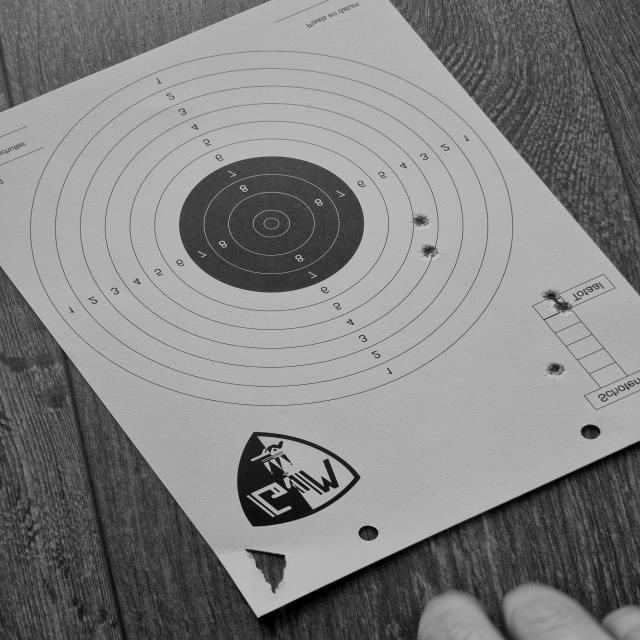0: (545, 362, 566, 378), (540, 289, 562, 303), (553, 300, 572, 313)
4: (417, 244, 442, 258)
5: (409, 215, 430, 228)
Target: (31, 51, 515, 407)
black_contour: (178, 157, 364, 292)
